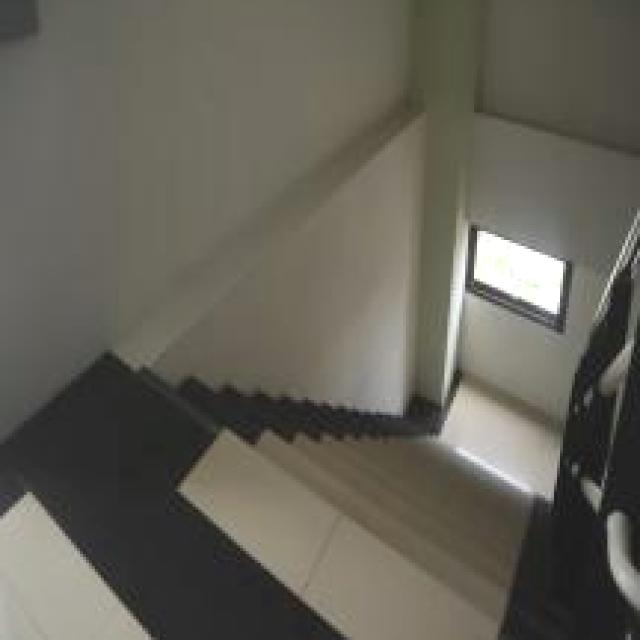downstair: (191, 374, 567, 640)
